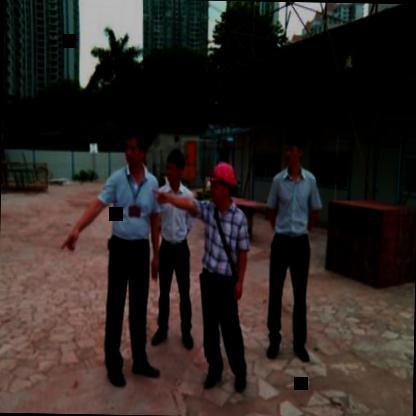head: (121, 124, 152, 172), (278, 130, 308, 168), (162, 146, 187, 184)
helmet: (206, 158, 240, 206)
